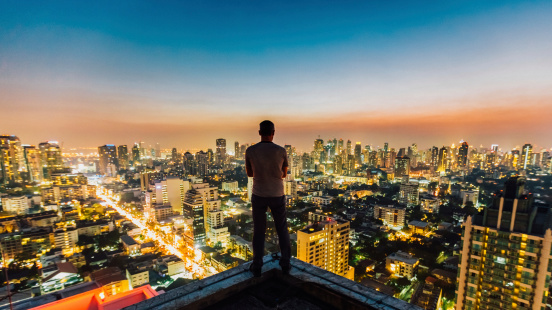em pe: (241, 117, 290, 262)
